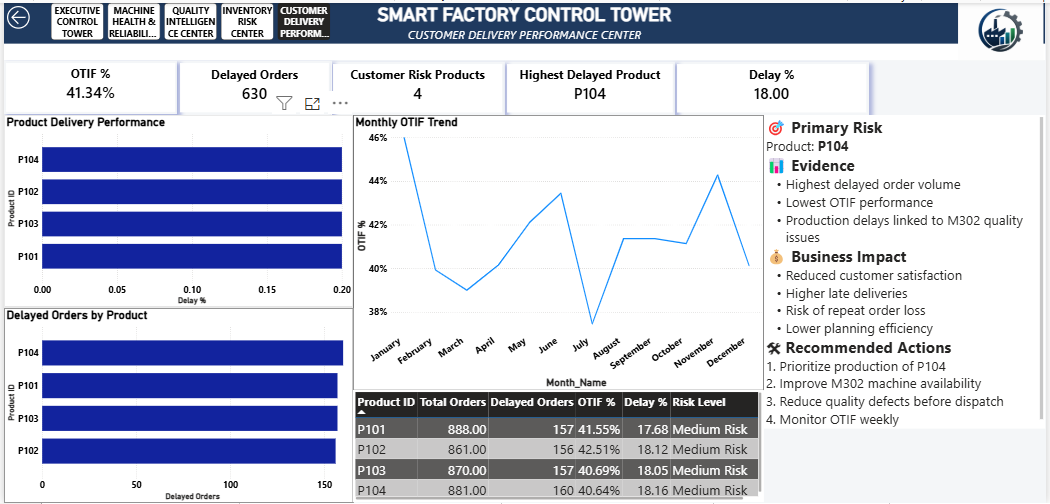

The page's visual inventory and layout, read from the dashboard file:
{"tool":"powerbi","page":{"name":"CUSTOMER DELIVERY PERFORMANCE CENTER","canvas":[2537,1218],"ordinal":4},"visuals":[{"type":"cardVisual","fields":{"Data":["Measure.OTIF %"]},"box":[0,141.6,422.4,129.6],"z":0},{"type":"cardVisual","fields":{"Data":["Measure.Delayed Orders"]},"box":[422.8,141.9,373.7,130.9],"z":1000},{"type":"cardVisual","fields":{"Data":["Measure.Customer Risk Products"]},"box":[796.6,144.6,422.8,128.2],"z":2000},{"type":"cardVisual","fields":{"Data":["Measure.Highest Delayed Product"]},"box":[1219.4,144.6,414.6,128.2],"z":3000},{"type":"cardVisual","fields":{"Data":["Measure.Delay %"]},"box":[1634,144.6,471.9,128.2],"z":4000},{"type":"textbox","title":"SMART FACTORY CONTROL TOWER","box":[0,0,2535.9,138.9],"z":5000},{"type":"image","box":[2318.8,0,218.2,139.1],"z":6000},{"type":"actionButton","box":[0,0,115,70],"z":7000},{"type":"clusteredBarChart","title":"Delayed Orders by Product","fields":{"Category":["FACT_Orders.Product ID"],"Y":["Measure.Delayed Orders"]},"box":[0,742,851.1,474.7],"z":8000},{"type":"lineChart","title":"Monthly OTIF Trend","fields":{"Y":["Measure.OTIF %"],"Category":["dim_date.Month_Name"]},"box":[851.1,272.8,1001.2,671.1],"z":9000},{"type":"clusteredBarChart","title":"Product Delivery Performance","fields":{"Category":["FACT_Orders.Product ID"],"Y":["Measure.Delay %"]},"box":[0,272.8,851.1,469.2],"z":10000},{"type":"textbox","box":[1852.3,272.8,684.7,763.8],"z":11000},{"type":"tableEx","fields":{"Values":["FACT_Orders.Product ID","Measure.Total Orders","Measure.Delayed Orders","Measure.OTIF %","Measure.Delay %","Customer Risk.Risk Level"]},"box":[851.1,943.9,1001.2,272.8],"z":12000},{"type":"pageNavigator","box":[114.6,0,682,90],"z":13000}]}

Visuals, with their boxes in screenshot pixels (x1, y1, x2, y2), scaled from the page's 2537x1218 canvas onto the 1050x504 screenshot:
cardVisual - Measure.OTIF %: BBox(0, 59, 175, 112)
cardVisual - Measure.Delayed Orders: BBox(175, 59, 330, 113)
cardVisual - Measure.Customer Risk Products: BBox(330, 60, 505, 113)
cardVisual - Measure.Highest Delayed Product: BBox(505, 60, 676, 113)
cardVisual - Measure.Delay %: BBox(676, 60, 872, 113)
"SMART FACTORY CONTROL TOWER" textbox: BBox(0, 0, 1049, 57)
image: BBox(960, 0, 1049, 58)
actionButton: BBox(0, 0, 48, 29)
"Delayed Orders by Product" clusteredBarChart: BBox(0, 307, 352, 503)
"Monthly OTIF Trend" lineChart: BBox(352, 113, 767, 391)
"Product Delivery Performance" clusteredBarChart: BBox(0, 113, 352, 307)
textbox: BBox(767, 113, 1049, 429)
tableEx - FACT_Orders.Product ID x Measure.Total Orders: BBox(352, 391, 767, 503)
pageNavigator: BBox(47, 0, 330, 37)
